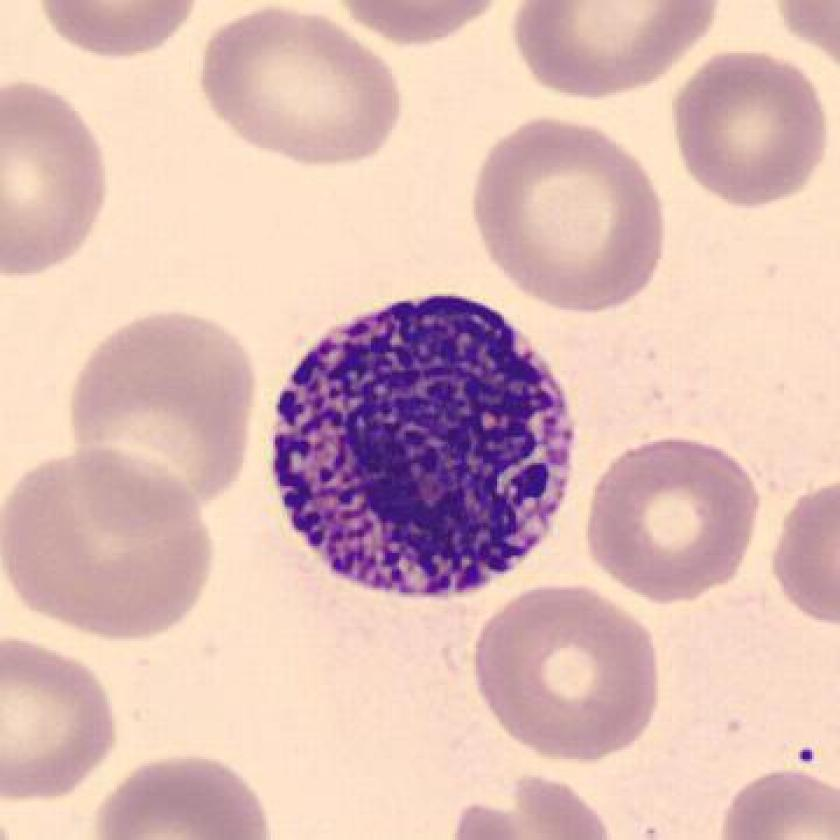basophil: (253, 286, 587, 603)
